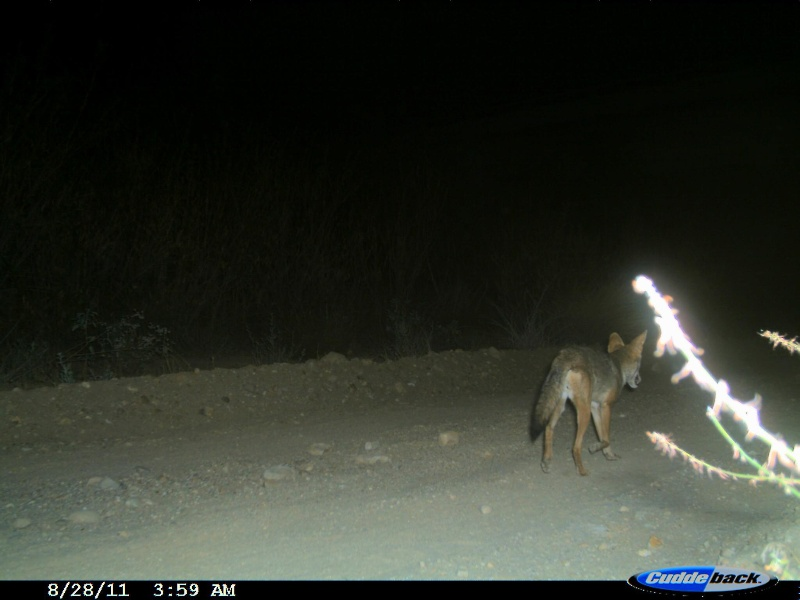coyote: (525, 326, 651, 474)
